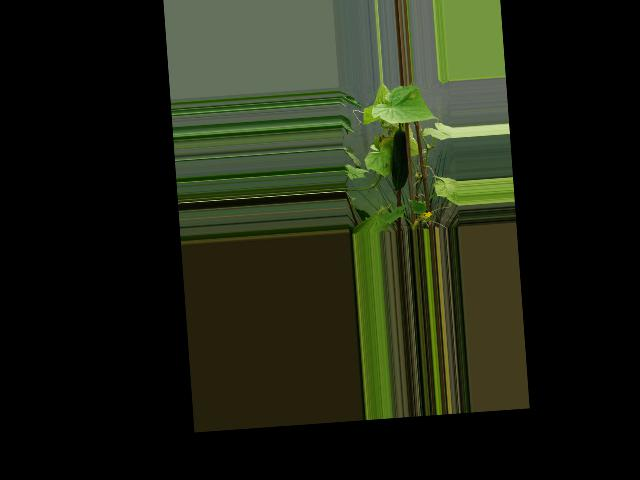cucumber: (388, 129, 410, 190)
